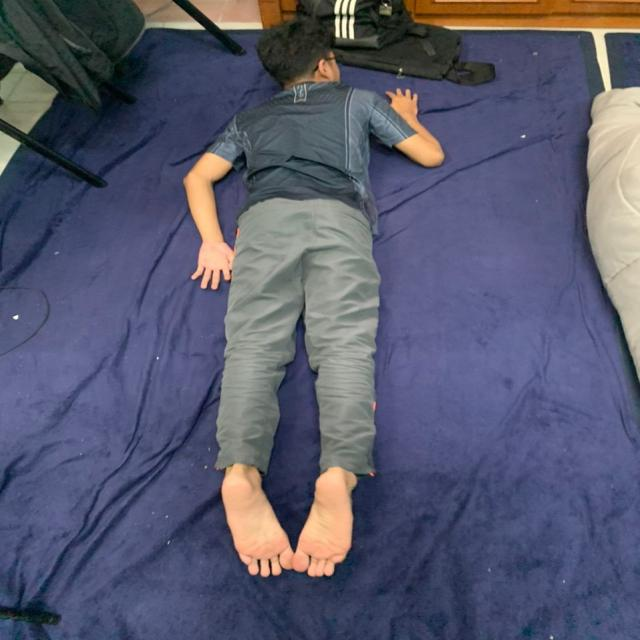Fall-Detected: (175, 28, 443, 580)
